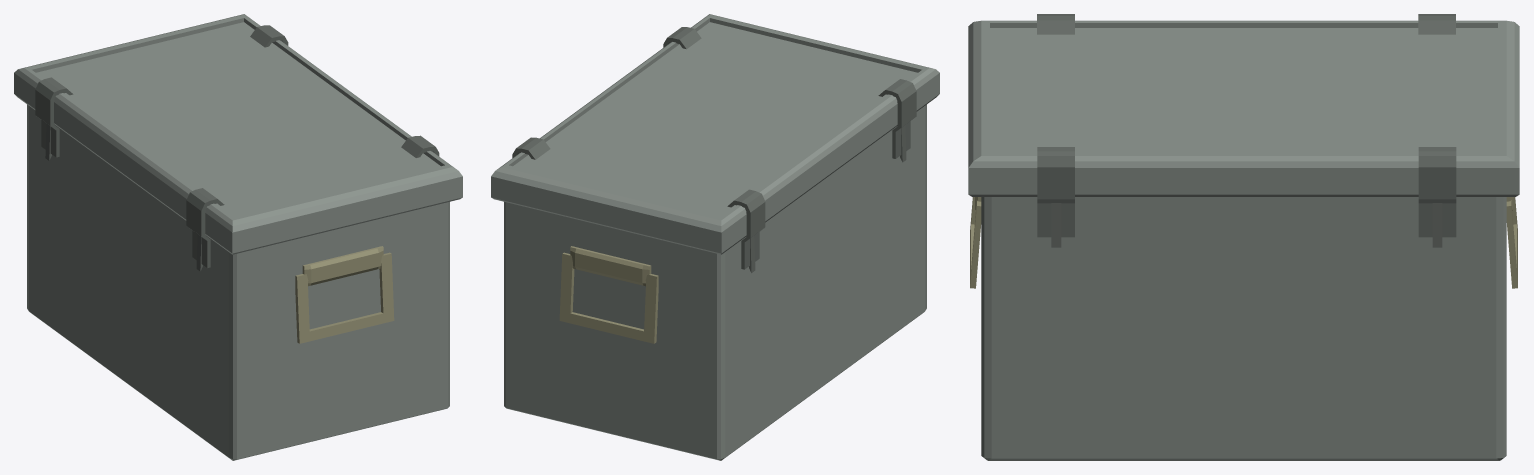
Rendered from ammo_smg.fbx.
3 views of the same model, side by side, from view 1: azimuth 30°, elevation 25°; view 2: azimuth 150°, elevation 25°; view 3: azimuth 270°, elevation 25° (orthographic). The views are drawn at different scales.
Visible parts, largest first — view 1: base-smg; view 2: base-smg; view 3: base-smg.
Boxes of the visible parts, x1,y1,x2,y2 form: base-smg: (14, 14, 462, 460); base-smg: (491, 14, 939, 460); base-smg: (968, 14, 1519, 460).
Bounding box in the file's own units: 14.07 × 13.94 × 22.35.
